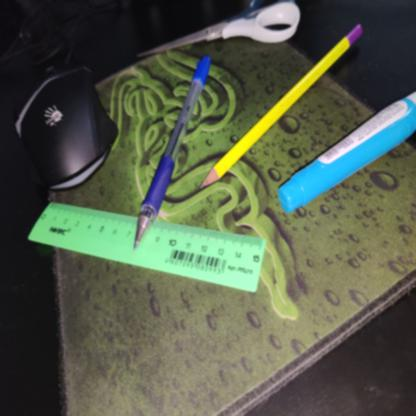Pen: (117, 53, 216, 288)
